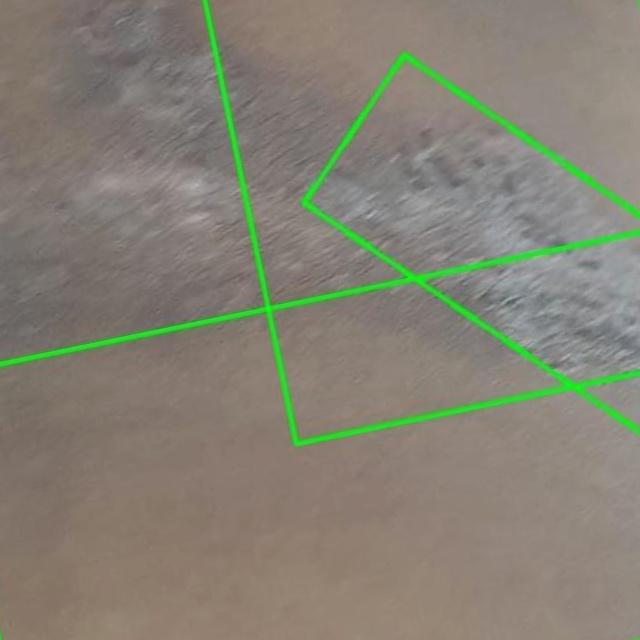Eczema: (0, 232, 639, 639), (204, 0, 639, 444), (304, 54, 639, 430)
